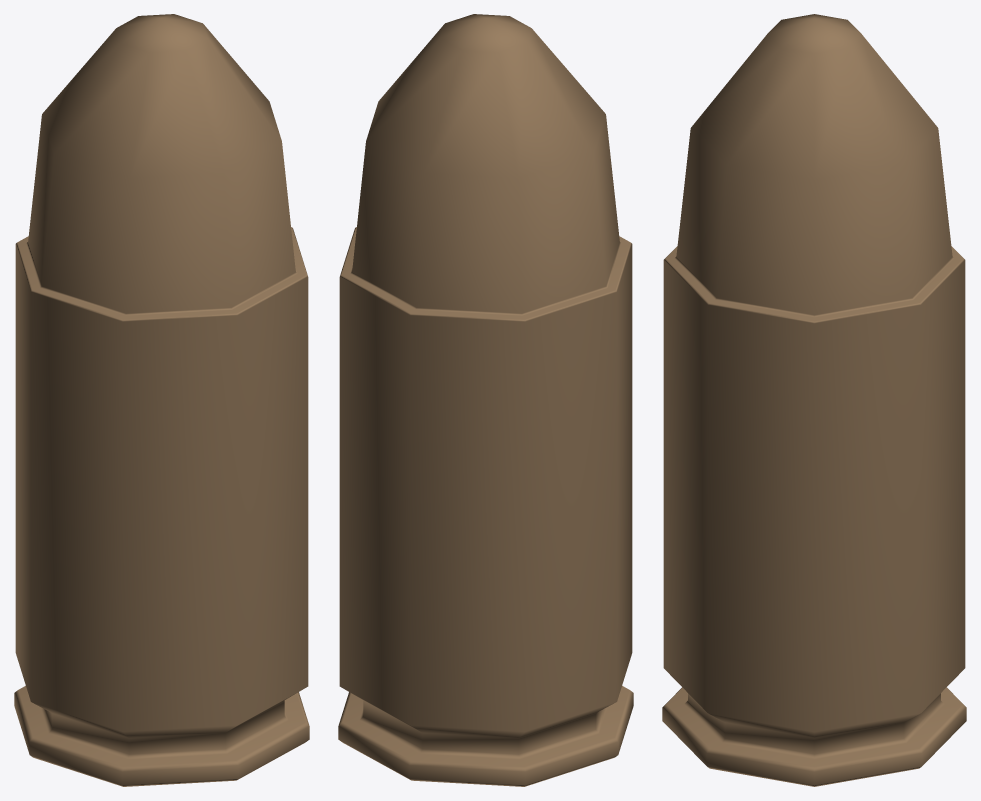
The model's file is Bullet.fbx.
The picture shows the model from 3 angles, left to right: view 1: azimuth 30°, elevation 25°; view 2: azimuth 150°, elevation 25°; view 3: azimuth 270°, elevation 25°; orthographic projection.
Parts seen in each view (by area): view 1: Cylinder; view 2: Cylinder; view 3: Cylinder.
Boxes of the visible parts, x1=… form: Cylinder: x1=14, y1=14, x2=309, y2=786; Cylinder: x1=338, y1=14, x2=633, y2=786; Cylinder: x1=662, y1=14, x2=966, y2=786.
Size of the model in its own units: 10.83 by 27.7 by 10.83.
